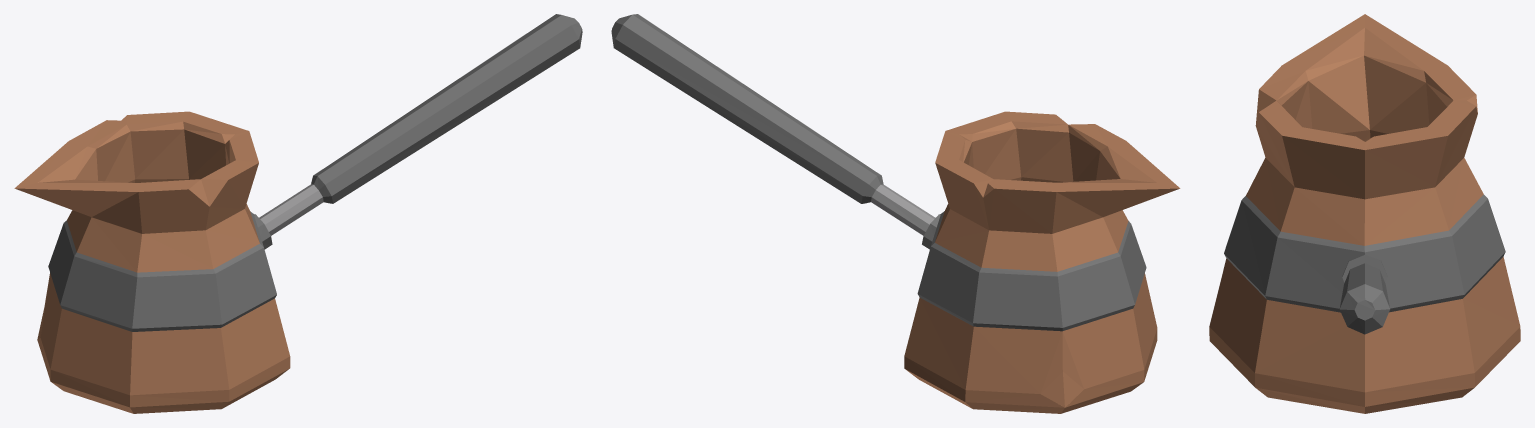
File: SFI_Coffee_Pot_002.fbx
The picture shows the model from 3 angles, left to right: view 1: azimuth 30°, elevation 25°; view 2: azimuth 150°, elevation 25°; view 3: azimuth 270°, elevation 25°; orthographic projection. The views are drawn at different scales.
Visible parts, largest first — view 1: SFI_Coffee_Pot_002; view 2: SFI_Coffee_Pot_002; view 3: SFI_Coffee_Pot_002.
Part boxes in pixels (<box>): SFI_Coffee_Pot_002: <box>14,14,582,413</box>; SFI_Coffee_Pot_002: <box>611,14,1180,413</box>; SFI_Coffee_Pot_002: <box>1209,14,1520,413</box>.
Bounding box in the file's own units: 42.37 × 18.24 × 16.97.
